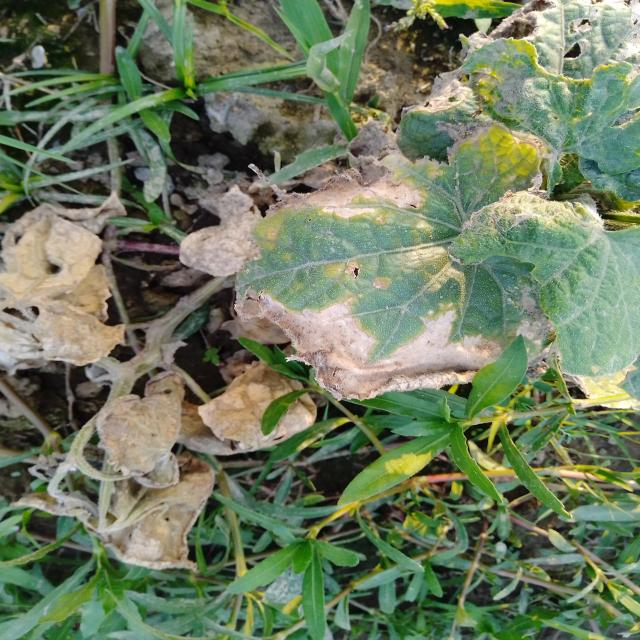cucumber_bacterial: (179, 171, 640, 409), (25, 379, 203, 626), (419, 0, 640, 177), (0, 186, 132, 394), (184, 368, 304, 446)
